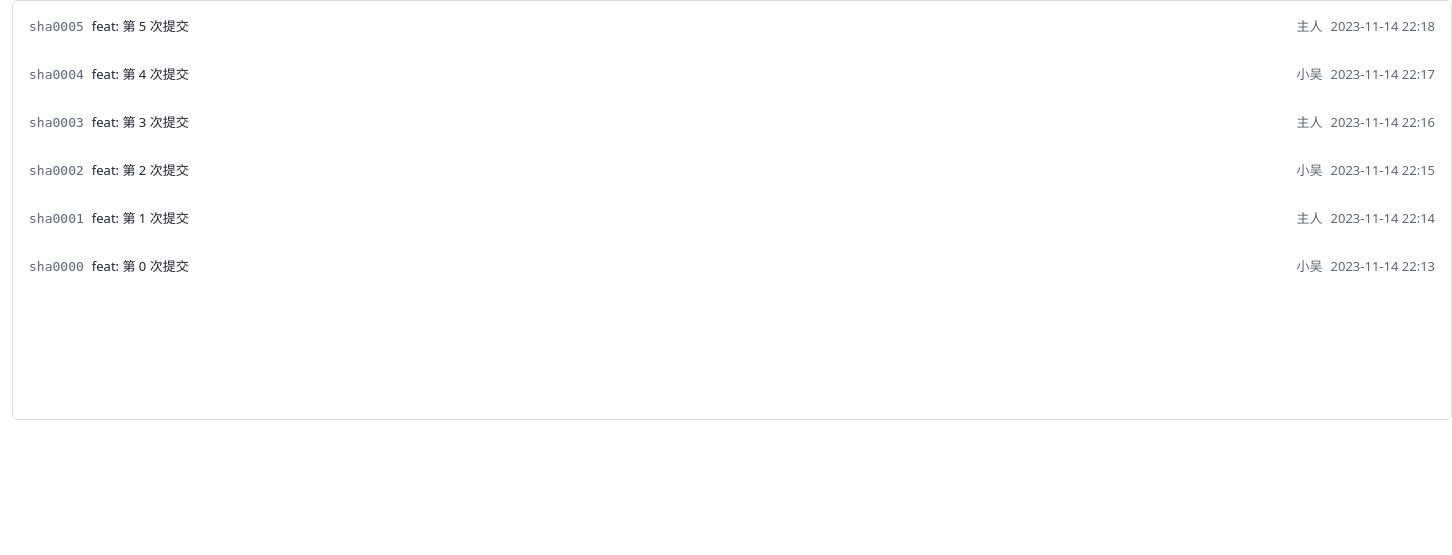
Test case: HistoryFilter + HistoryTimeline（T6-03 历史） › 点击提交展示详情（文件清单与增删行数）
The image size is (1452, 555).
Click the button with test id "history-row" that starts with "sha0005" at (56, 26), box top-left (21, 10), bottom-right (1443, 40)
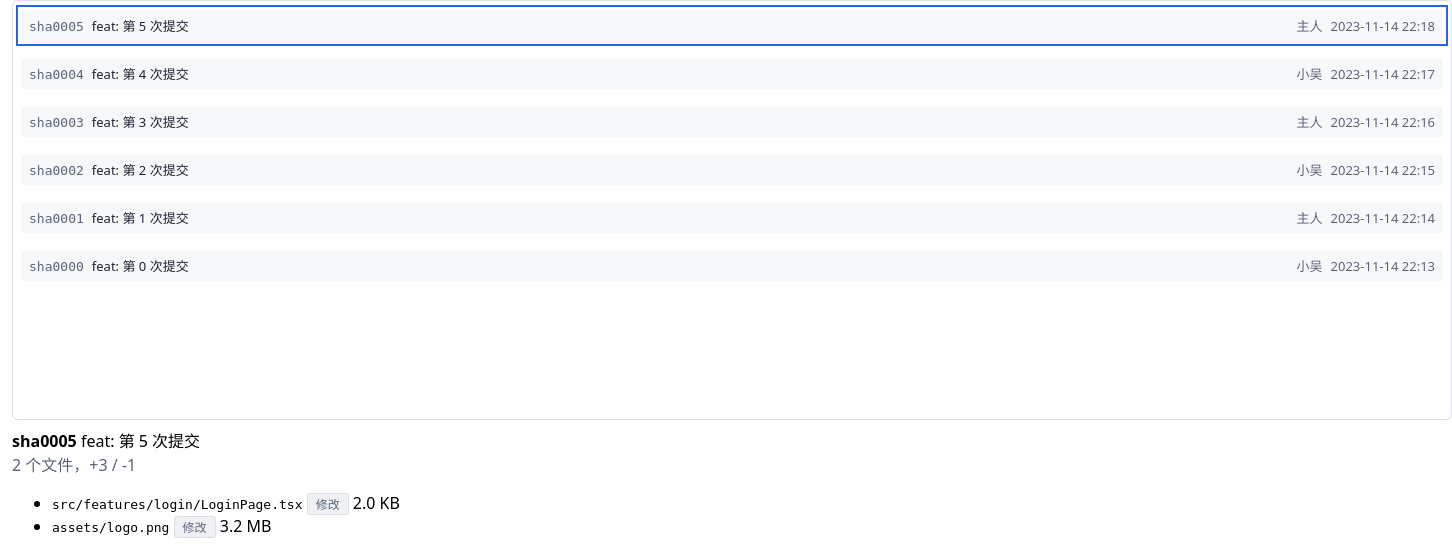
Now the list item with test id "detail-file" that starts with "src/features/login/LoginPage.tsx" is shown, box top-left (52, 492), bottom-right (400, 515)
